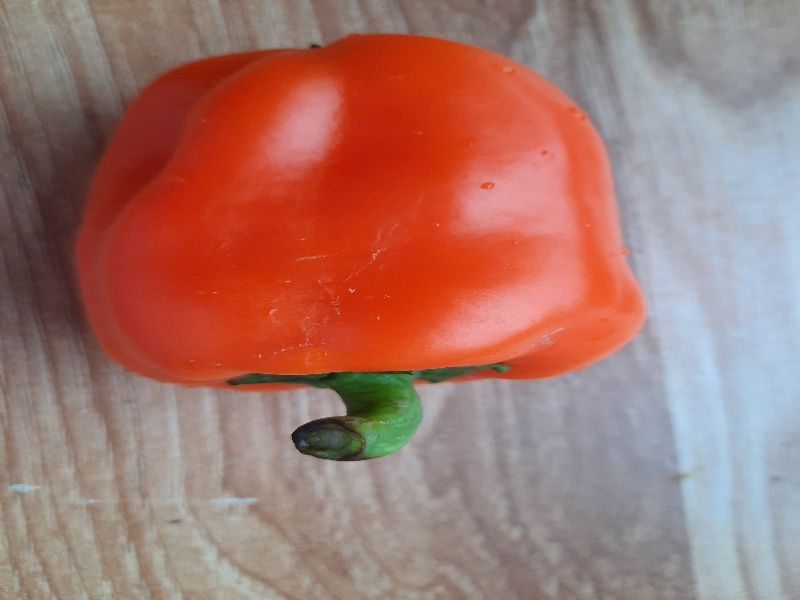vege: (64, 32, 652, 475)
